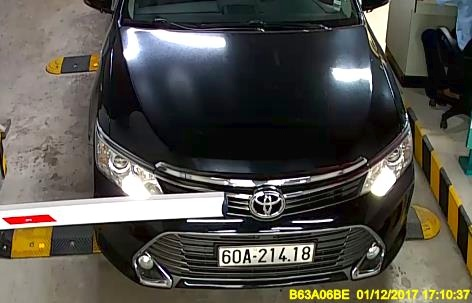plate: (215, 238, 315, 266)
